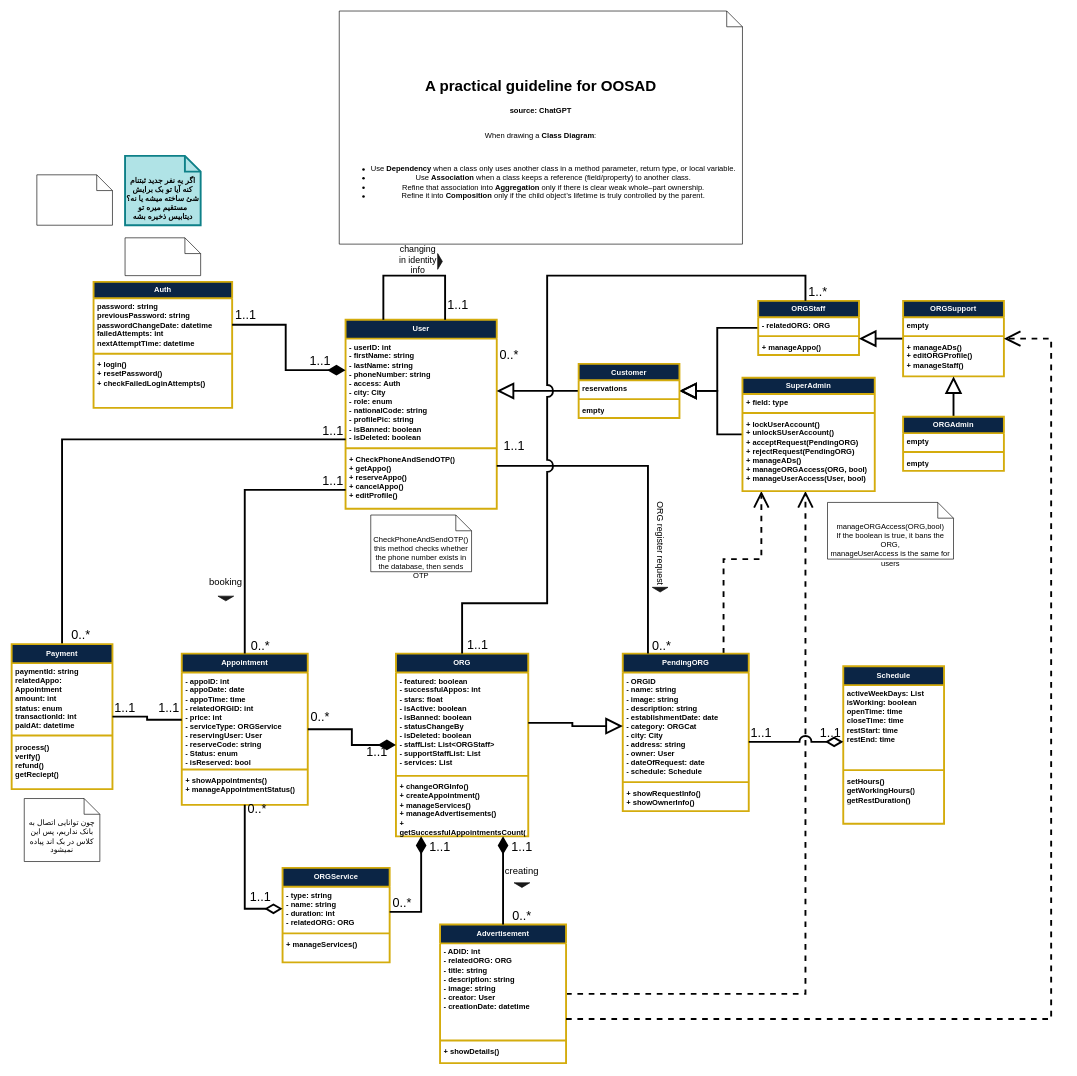
This 1077x1076 diagram has some shape labels left out. Here are the shapes that lost their labels. From the top down, the centre of each, then its label:
At (x=74, y=199): "کلاس های واسط و DTO ها اینجا نمایش داده نشدند".
At (x=162, y=256): "Auth: Authenticate".
